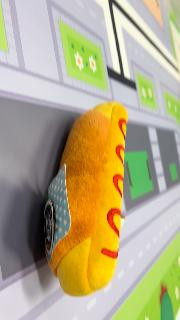hotdog: (43, 100, 129, 298)
